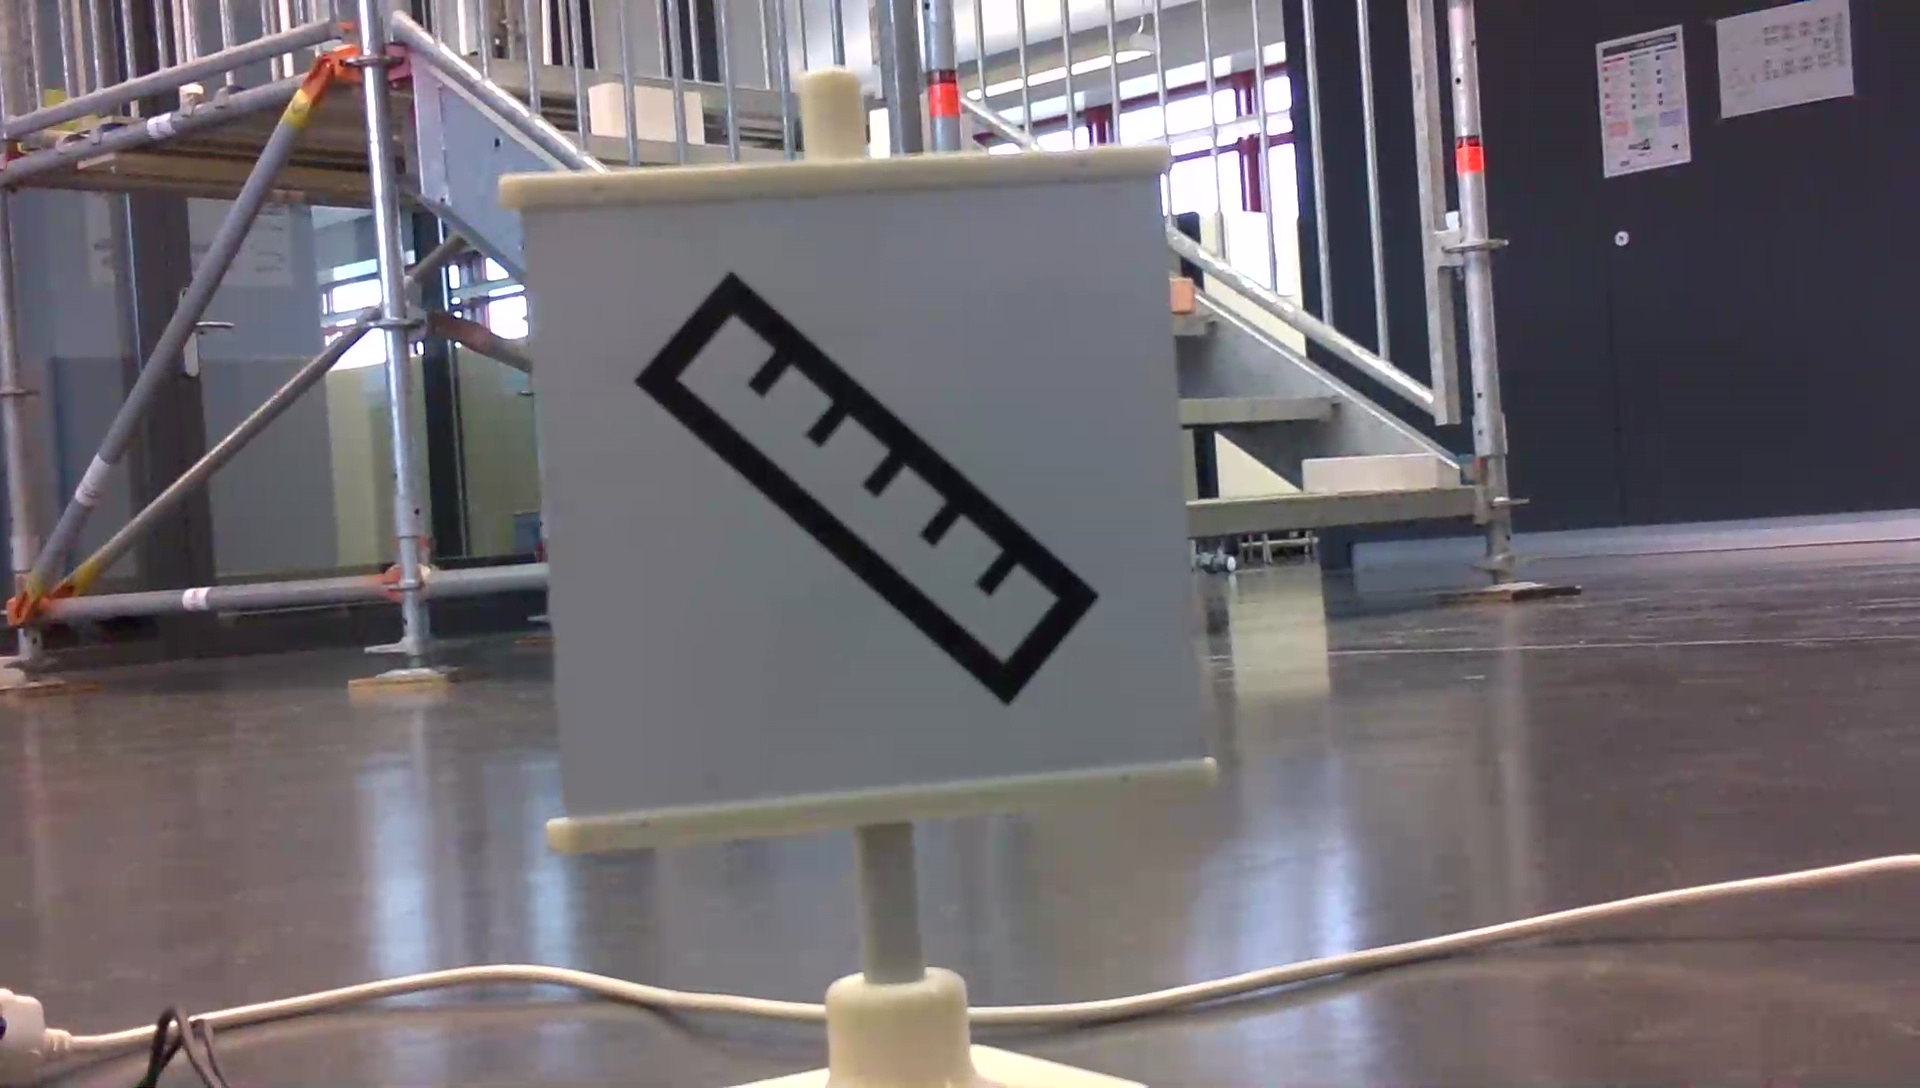ruler: (636, 257, 1104, 702)
